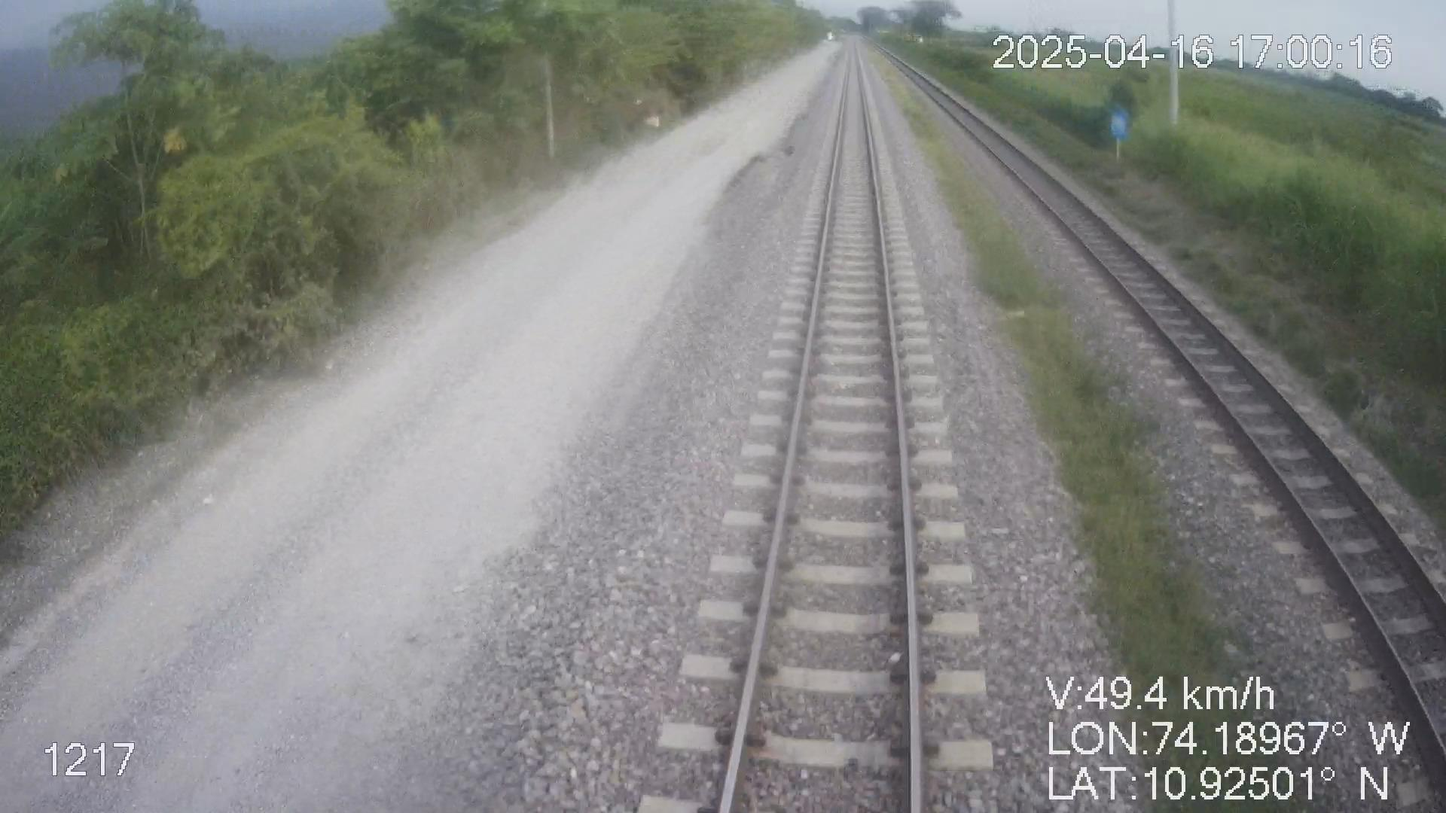Pasto: (0, 0, 824, 547), (883, 29, 1445, 601)
